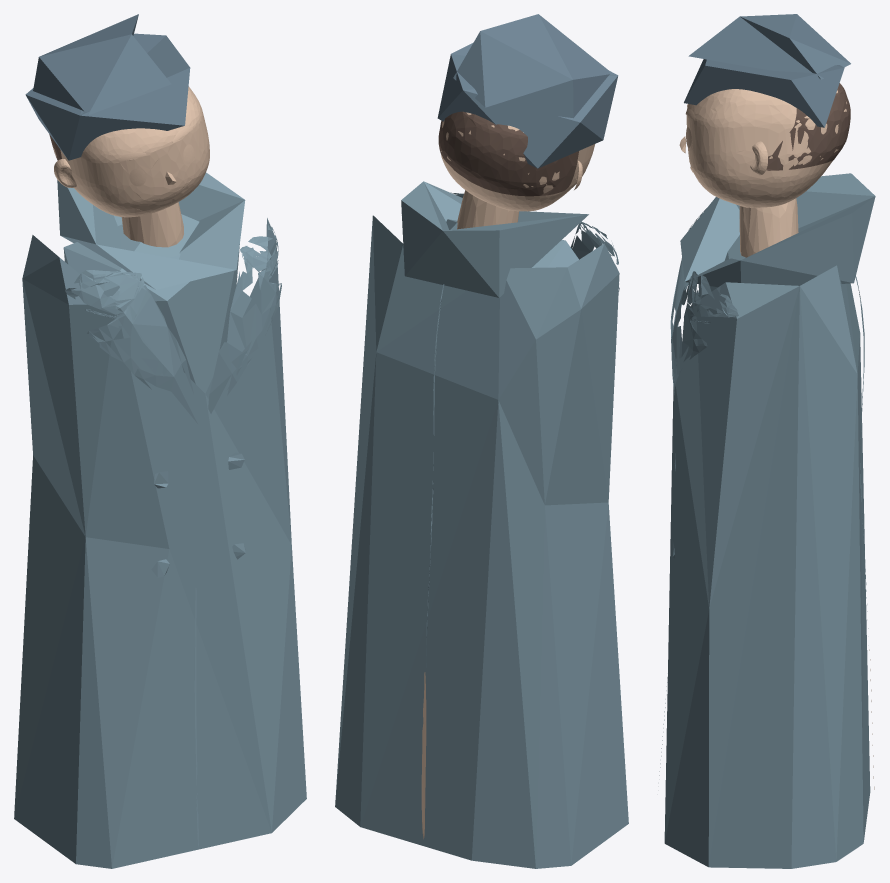
Rendered from jonathan.v1.glb.
The picture shows the model from 3 angles, left to right: view 1: azimuth 30°, elevation 25°; view 2: azimuth 150°, elevation 25°; view 3: azimuth 270°, elevation 25°; orthographic projection. The views are drawn at different scales.
Visible parts, largest first — view 1: 01 | Tailored overcoat with open V, 08 | Continuous padded hood and resting back pouch, 20 | High-resolution oval face and full cranium, 06 | Enclosed ivory sweatshirt torso under coat, 30 | Rounded beanie crown, 28 | Fitted folded beanie band, 13 | -1 broad notched lapel, 13 | +1 broad notched lapel, 12 | -1 coat collar, 11 | Exposed tapered neck, 12 | +1 coat collar; view 2: 01 | Tailored overcoat with open V, 08 | Continuous padded hood and resting back pouch, 30 | Rounded beanie crown, 27 | Short hair at nape, 28 | Fitted folded beanie band, 20 | High-resolution oval face and full cranium, 11 | Exposed tapered neck, 06 | Enclosed ivory sweatshirt torso under coat, 05 | Rear vent underlap, 13 | -1 broad notched lapel; view 3: 01 | Tailored overcoat with open V, 08 | Continuous padded hood and resting back pouch, 20 | High-resolution oval face and full cranium, 30 | Rounded beanie crown, 28 | Fitted folded beanie band, 27 | Short hair at nape, 11 | Exposed tapered neck, 13 | +1 broad notched lapel, 12 | +1 coat collar, 13 | -1 broad notched lapel, 21 | +1 shaped ear.
Part boxes in pixels (x1=…): 01 | Tailored overcoat with open V: x1=14, y1=218, x2=306, y2=868; 08 | Continuous padded hood and resting back pouch: x1=57, y1=172, x2=245, y2=289; 20 | High-resolution oval face and full cranium: x1=53, y1=86, x2=209, y2=217; 06 | Enclosed ivory sweatshirt torso under coat: x1=63, y1=214, x2=239, y2=393; 30 | Rounded beanie crown: x1=33, y1=14, x2=171, y2=115; 28 | Fitted folded beanie band: x1=25, y1=33, x2=190, y2=160; 13 | -1 broad notched lapel: x1=87, y1=275, x2=197, y2=423; 13 | +1 broad notched lapel: x1=208, y1=246, x2=281, y2=413; 12 | -1 coat collar: x1=65, y1=270, x2=144, y2=314; 11 | Exposed tapered neck: x1=121, y1=202, x2=183, y2=247; 12 | +1 coat collar: x1=240, y1=225, x2=278, y2=276; 01 | Tailored overcoat with open V: x1=335, y1=215, x2=628, y2=868; 08 | Continuous padded hood and resting back pouch: x1=401, y1=181, x2=588, y2=297; 30 | Rounded beanie crown: x1=453, y1=14, x2=610, y2=120; 27 | Short hair at nape: x1=438, y1=111, x2=578, y2=196; 28 | Fitted folded beanie band: x1=437, y1=43, x2=618, y2=168; 20 | High-resolution oval face and full cranium: x1=441, y1=112, x2=594, y2=211; 11 | Exposed tapered neck: x1=457, y1=190, x2=518, y2=229; 06 | Enclosed ivory sweatshirt torso under coat: x1=446, y1=219, x2=578, y2=267; 05 | Rear vent underlap: x1=421, y1=672, x2=426, y2=839; 13 | -1 broad notched lapel: x1=570, y1=222, x2=619, y2=291; 01 | Tailored overcoat with open V: x1=664, y1=264, x2=870, y2=868; 08 | Continuous padded hood and resting back pouch: x1=680, y1=173, x2=875, y2=287; 20 | High-resolution oval face and full cranium: x1=686, y1=84, x2=846, y2=207; 30 | Rounded beanie crown: x1=688, y1=14, x2=850, y2=79; 28 | Fitted folded beanie band: x1=684, y1=59, x2=844, y2=127; 27 | Short hair at nape: x1=766, y1=83, x2=850, y2=170; 11 | Exposed tapered neck: x1=739, y1=198, x2=798, y2=257; 13 | +1 broad notched lapel: x1=671, y1=274, x2=707, y2=394; 12 | +1 coat collar: x1=687, y1=271, x2=738, y2=317; 13 | -1 broad notched lapel: x1=670, y1=220, x2=696, y2=338; 21 | +1 shaped ear: x1=750, y1=141, x2=767, y2=175.
Size of the model in its own units: 0.4155 by 1.31 by 0.3316.
